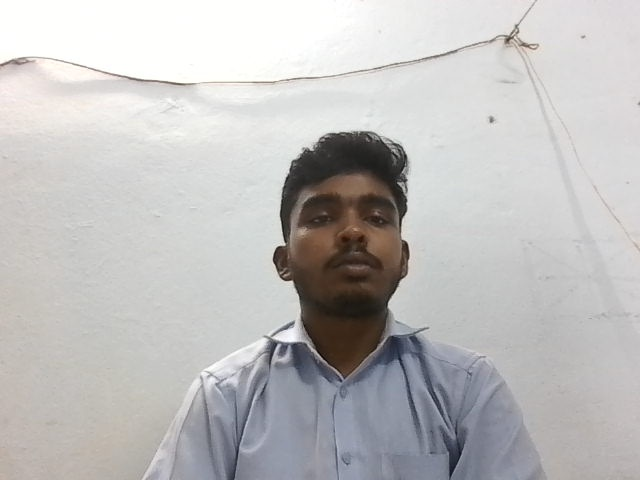real: (280, 121, 420, 319)
